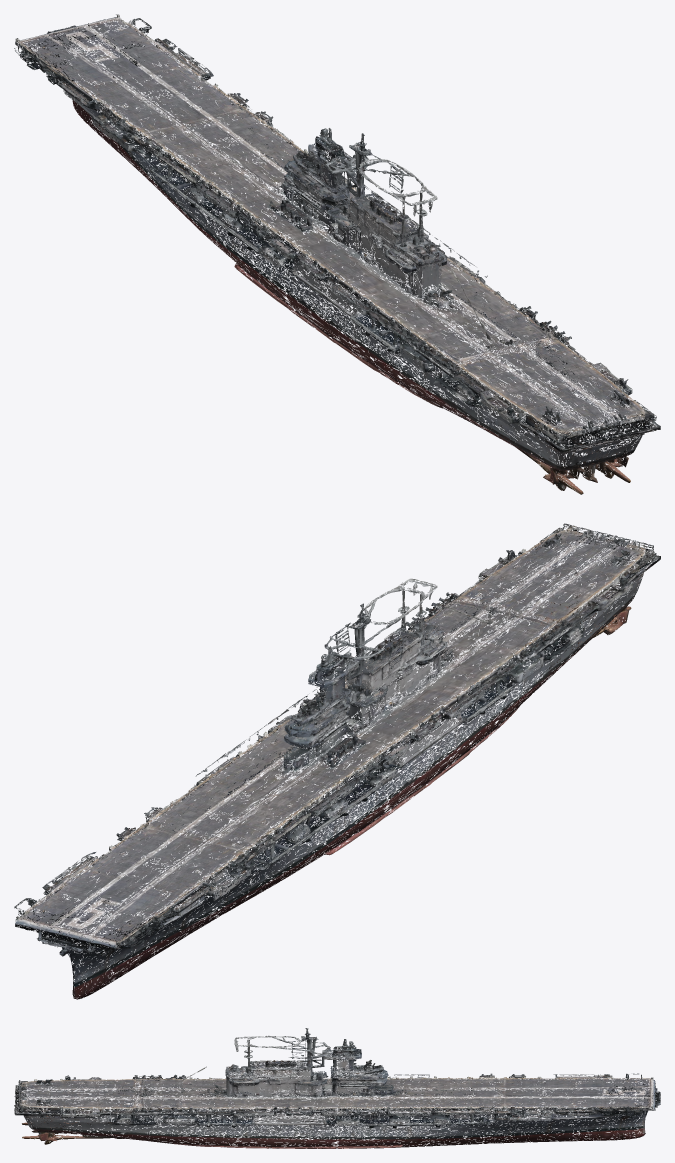
Rendered from carrier.yorktown.glb.
3 views of the same model, one above another, from view 1: azimuth 30°, elevation 25°; view 2: azimuth 150°, elevation 25°; view 3: azimuth 270°, elevation 25° (orthographic). The views are drawn at different scales.
Visible parts, largest first — view 1: tripo_node_b9d69aba-ca1d-4d3e-87a2-5ab27ca9fc45; view 2: tripo_node_b9d69aba-ca1d-4d3e-87a2-5ab27ca9fc45; view 3: tripo_node_b9d69aba-ca1d-4d3e-87a2-5ab27ca9fc45.
Part boxes in pixels (x1,y1,x2,y2): tripo_node_b9d69aba-ca1d-4d3e-87a2-5ab27ca9fc45: (14,14,660,494); tripo_node_b9d69aba-ca1d-4d3e-87a2-5ab27ca9fc45: (14,523,660,999); tripo_node_b9d69aba-ca1d-4d3e-87a2-5ab27ca9fc45: (14,1028,660,1148).
Bounding box in the file's own units: 32.79 × 48.02 × 247.
Materials: 1 (1 with a texture image).
